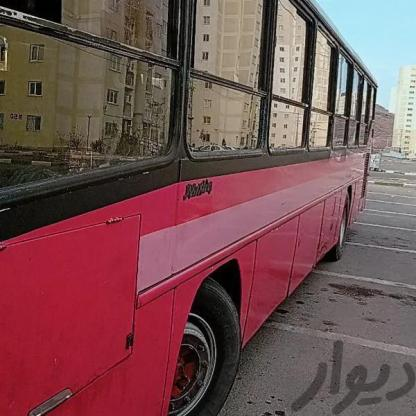Bus: (0, 0, 375, 416)
